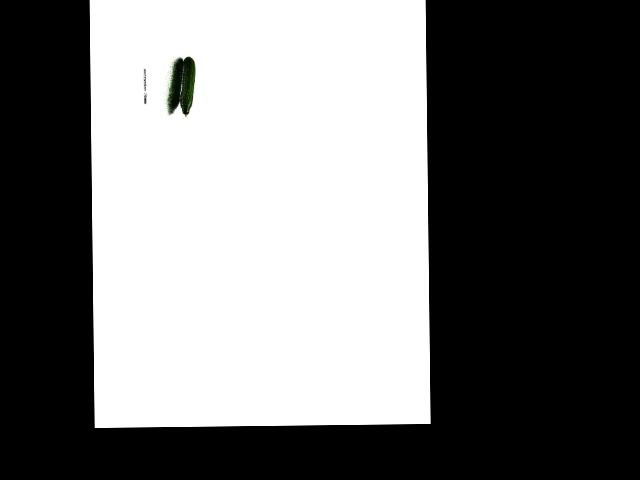cucumber: (179, 57, 195, 116)
